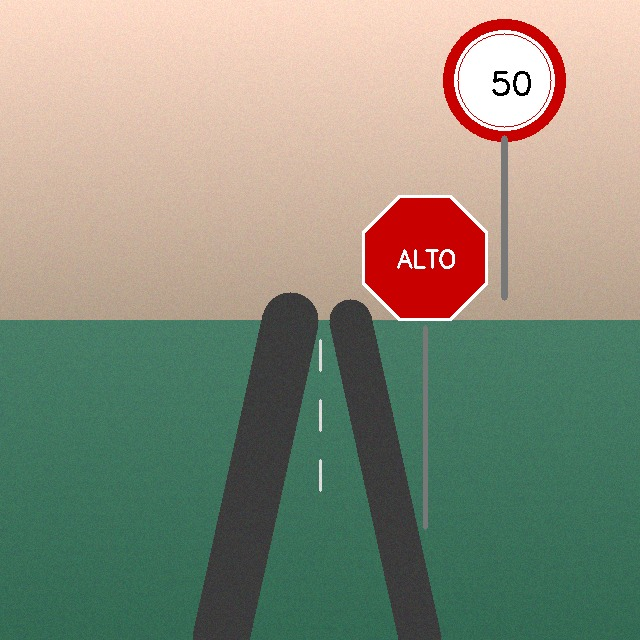alto: (356, 189, 494, 327)
velocidad: (446, 22, 562, 138)
